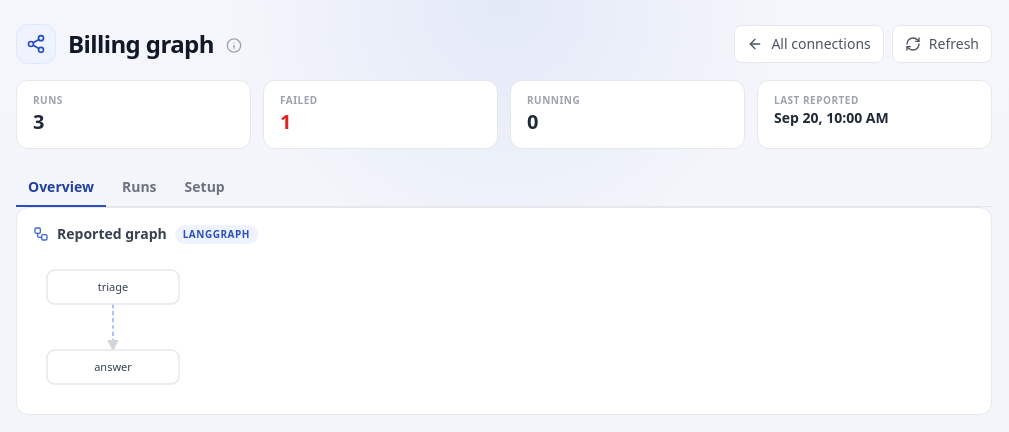
Test case: ConnectionDetail › says which runs were imported rather than watched
Expected: the heading "Billing graph" is shown, [68, 28, 214, 60]
Click the button "Runs" at (139, 188), box [110, 169, 169, 207]
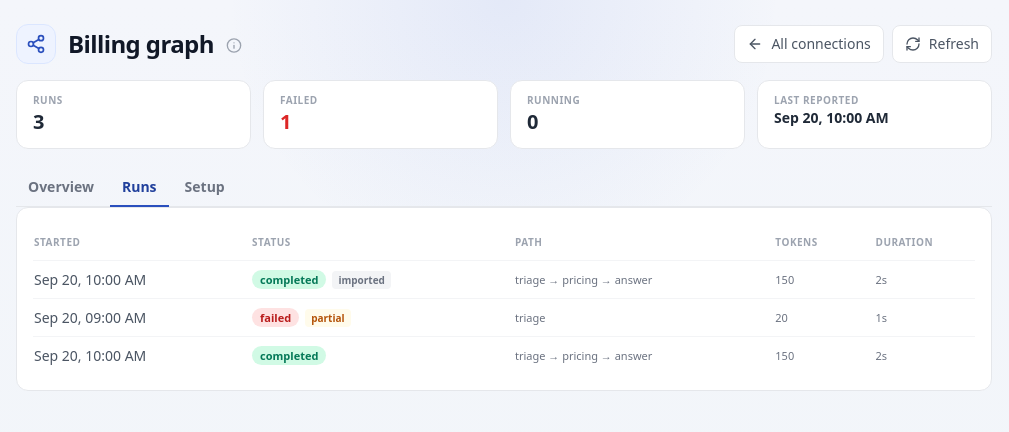
Result: the text "imported" is shown once at [332, 271, 391, 289]
